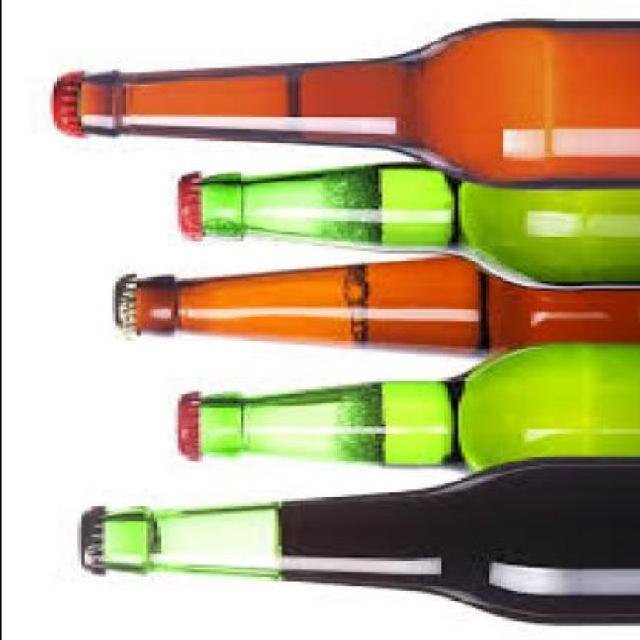GLASS: (73, 21, 636, 192), (97, 462, 637, 624), (194, 346, 637, 483), (197, 164, 637, 293), (132, 258, 636, 360)
METAL: (45, 75, 72, 138), (75, 508, 97, 580), (172, 176, 194, 247), (169, 394, 191, 461), (107, 280, 128, 342)
